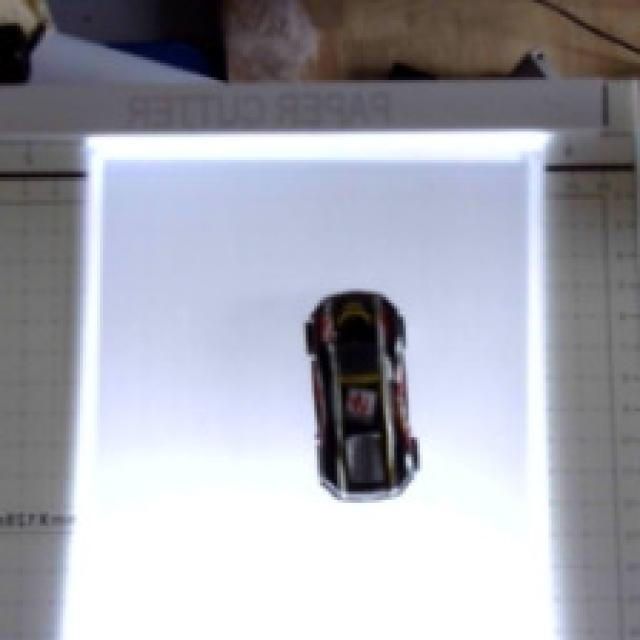Red Car: (262, 282, 452, 535)
